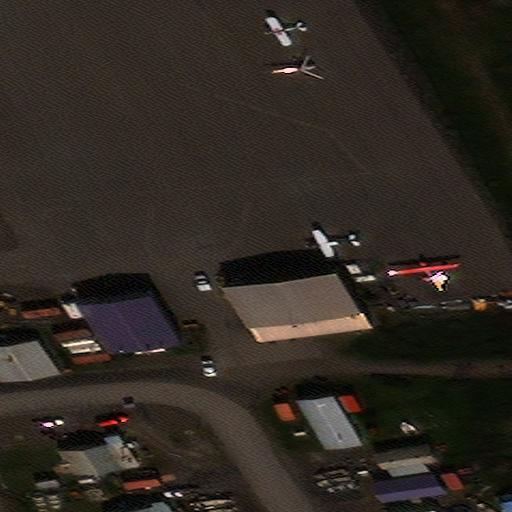Small Civil Transport: (390, 260, 459, 289), (303, 231, 363, 262), (263, 19, 306, 47)
